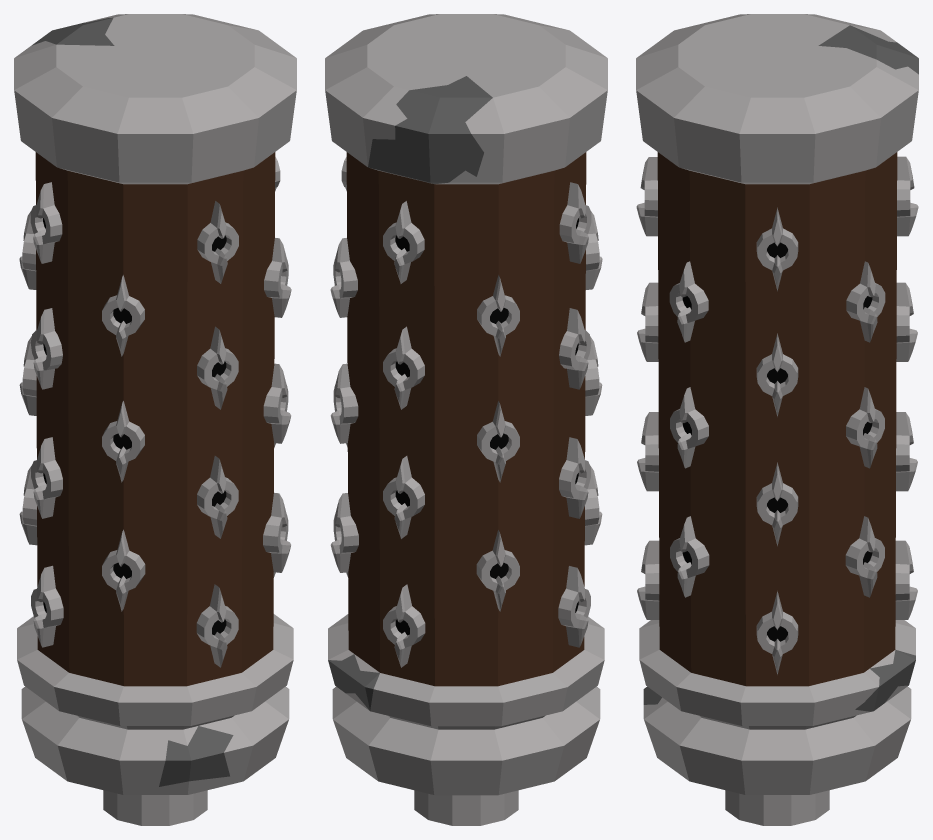
Rendered from SpinningProjectileTrap.fbx.
The picture shows the model from 3 angles, left to right: view 1: azimuth 30°, elevation 25°; view 2: azimuth 150°, elevation 25°; view 3: azimuth 270°, elevation 25°; orthographic projection.
Parts seen in each view (by area): view 1: SpinningProjectileTrap; view 2: SpinningProjectileTrap; view 3: SpinningProjectileTrap.
Part boxes in pixels (x1,y1,x2,y2): SpinningProjectileTrap: [14, 14, 296, 825]; SpinningProjectileTrap: [325, 14, 607, 825]; SpinningProjectileTrap: [636, 14, 918, 825].
Size of the model in its own units: 51.39 by 150 by 51.39.
